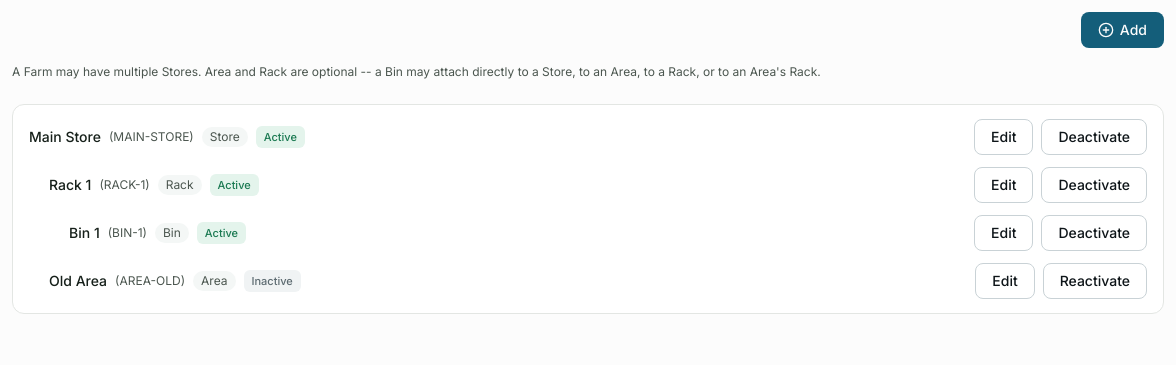
StorageSection maintenance › shows a friendly message when reactivation is blocked by an inactive parent
Expected: the text "Old Area" is shown, [49,271,107,291]
Click the button "Reactivate".
click(1095, 281)  # box [1043,263,1147,299]
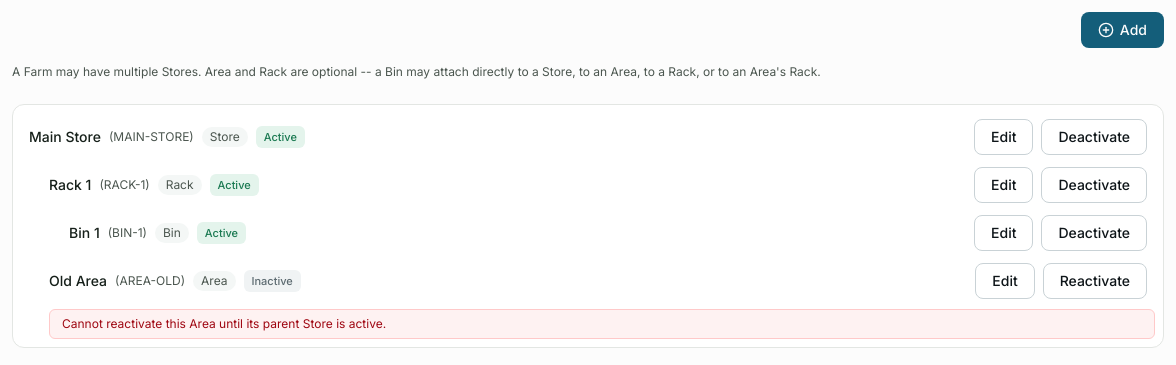
Expected: the text "Cannot reactivate this Area until its parent Store is active." is shown, [49,309,1155,339]
